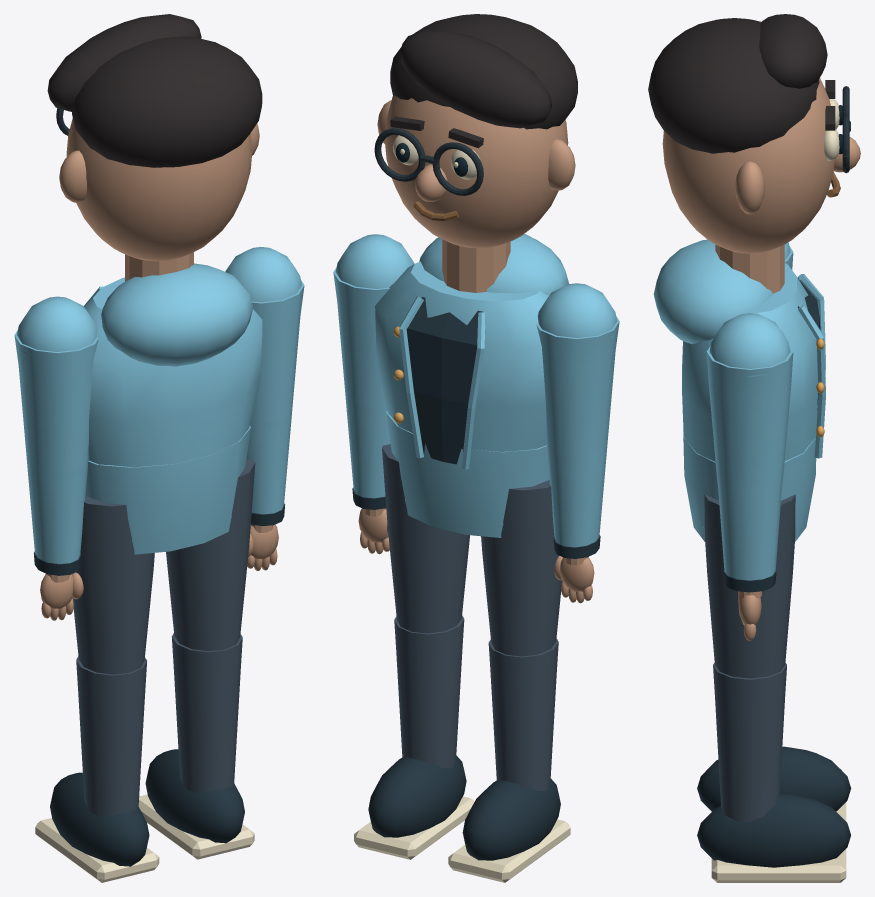
The model's file is nord.glb.
The picture shows the model from 3 angles, left to right: view 1: azimuth 30°, elevation 25°; view 2: azimuth 150°, elevation 25°; view 3: azimuth 270°, elevation 25°; orthographic projection.
Visible parts, largest first — view 1: Release3D_nord_CardiganEdge-1, Release3D_nord_Brow-1, Release3D_nord_Ear-1, Release3D_nord_LeftShoulder, Release3D_nord_Hem, Release3D_nord_LeftTrouser, Release3D_nord_RightTrouser, Release3D_nord_RightCalf, Release3D_nord_LeftCalf, Release3D_nord_RightShoulder, Release3D_nord_RightShoe, Release3D_nord_LeftShoe (+8 smaller); view 2: Release3D_nord_CardiganEdge-1, Release3D_nord_Brow-1, Release3D_nord_Ear-1, Release3D_nord_LeftShoulder, Release3D_nord_LeftTrouser, Release3D_nord_Hem, Release3D_nord_RightTrouser, Release3D_nord_LeftCalf, Release3D_nord_RightCalf, Release3D_nord_InnerShirt, Release3D_nord_RightShoulder, Release3D_nord_LeftShoe (+10 smaller); view 3: Release3D_nord_Brow-1, Release3D_nord_CardiganEdge-1, Release3D_nord_Ear-1, Release3D_nord_RightShoulder, Release3D_nord_RightCalf, Release3D_nord_RightTrouser, Release3D_nord_RightShoe, Release3D_nord_RightElbow, Release3D_nord_Hem, Release3D_nord_LeftShoe, Release3D_nord_RightSole, Release3D_nord_Neck (+4 smaller).
Part boxes in pixels (left/top/right/bottom): Release3D_nord_CardiganEdge-1: left=84, top=263, right=262, bottom=467; Release3D_nord_Brow-1: left=47, top=14, right=262, bottom=167; Release3D_nord_Ear-1: left=59, top=118, right=259, bottom=261; Release3D_nord_LeftShoulder: left=14, top=296, right=98, bottom=472; Release3D_nord_Hem: left=85, top=426, right=250, bottom=554; Release3D_nord_LeftTrouser: left=72, top=496, right=154, bottom=674; Release3D_nord_RightTrouser: left=166, top=459, right=255, bottom=651; Release3D_nord_RightCalf: left=171, top=633, right=242, bottom=793; Release3D_nord_LeftCalf: left=76, top=656, right=146, bottom=816; Release3D_nord_RightShoulder: left=225, top=247, right=304, bottom=422; Release3D_nord_RightShoe: left=145, top=749, right=244, bottom=843; Release3D_nord_LeftShoe: left=50, top=772, right=149, bottom=866; Release3D_nord_CardiganEdge-1: left=375, top=234, right=568, bottom=469; Release3D_nord_Brow-1: left=390, top=14, right=577, bottom=148; Release3D_nord_Ear-1: left=377, top=95, right=575, bottom=248; Release3D_nord_LeftShoulder: left=536, top=283, right=619, bottom=456; Release3D_nord_LeftTrouser: left=481, top=480, right=562, bottom=656; Release3D_nord_Hem: left=386, top=410, right=549, bottom=537; Release3D_nord_RightTrouser: left=382, top=444, right=469, bottom=633; Release3D_nord_LeftCalf: left=488, top=638, right=558, bottom=791; Release3D_nord_RightCalf: left=394, top=615, right=464, bottom=768; Release3D_nord_InnerShirt: left=406, top=297, right=483, bottom=464; Release3D_nord_RightShoulder: left=333, top=234, right=414, bottom=407; Release3D_nord_LeftShoe: left=462, top=778, right=560, bottom=860; Release3D_nord_Brow-1: left=648, top=14, right=835, bottom=153; Release3D_nord_CardiganEdge-1: left=653, top=239, right=825, bottom=461; Release3D_nord_Ear-1: left=662, top=78, right=860, bottom=253; Release3D_nord_RightShoulder: left=706, top=313, right=793, bottom=488; Release3D_nord_RightCalf: left=713, top=662, right=786, bottom=822; Release3D_nord_RightTrouser: left=704, top=494, right=795, bottom=678; Release3D_nord_RightShoe: left=697, top=793, right=850, bottom=867; Release3D_nord_RightElbow: left=717, top=476, right=783, bottom=580; Release3D_nord_Hem: left=683, top=432, right=816, bottom=541; Release3D_nord_LeftShoe: left=697, top=746, right=851, bottom=811; Release3D_nord_RightSole: left=711, top=849, right=846, bottom=882; Release3D_nord_Neck: left=715, top=244, right=784, bottom=293.
Size of the model in its own units: 0.67 by 1.89 by 0.4416.
